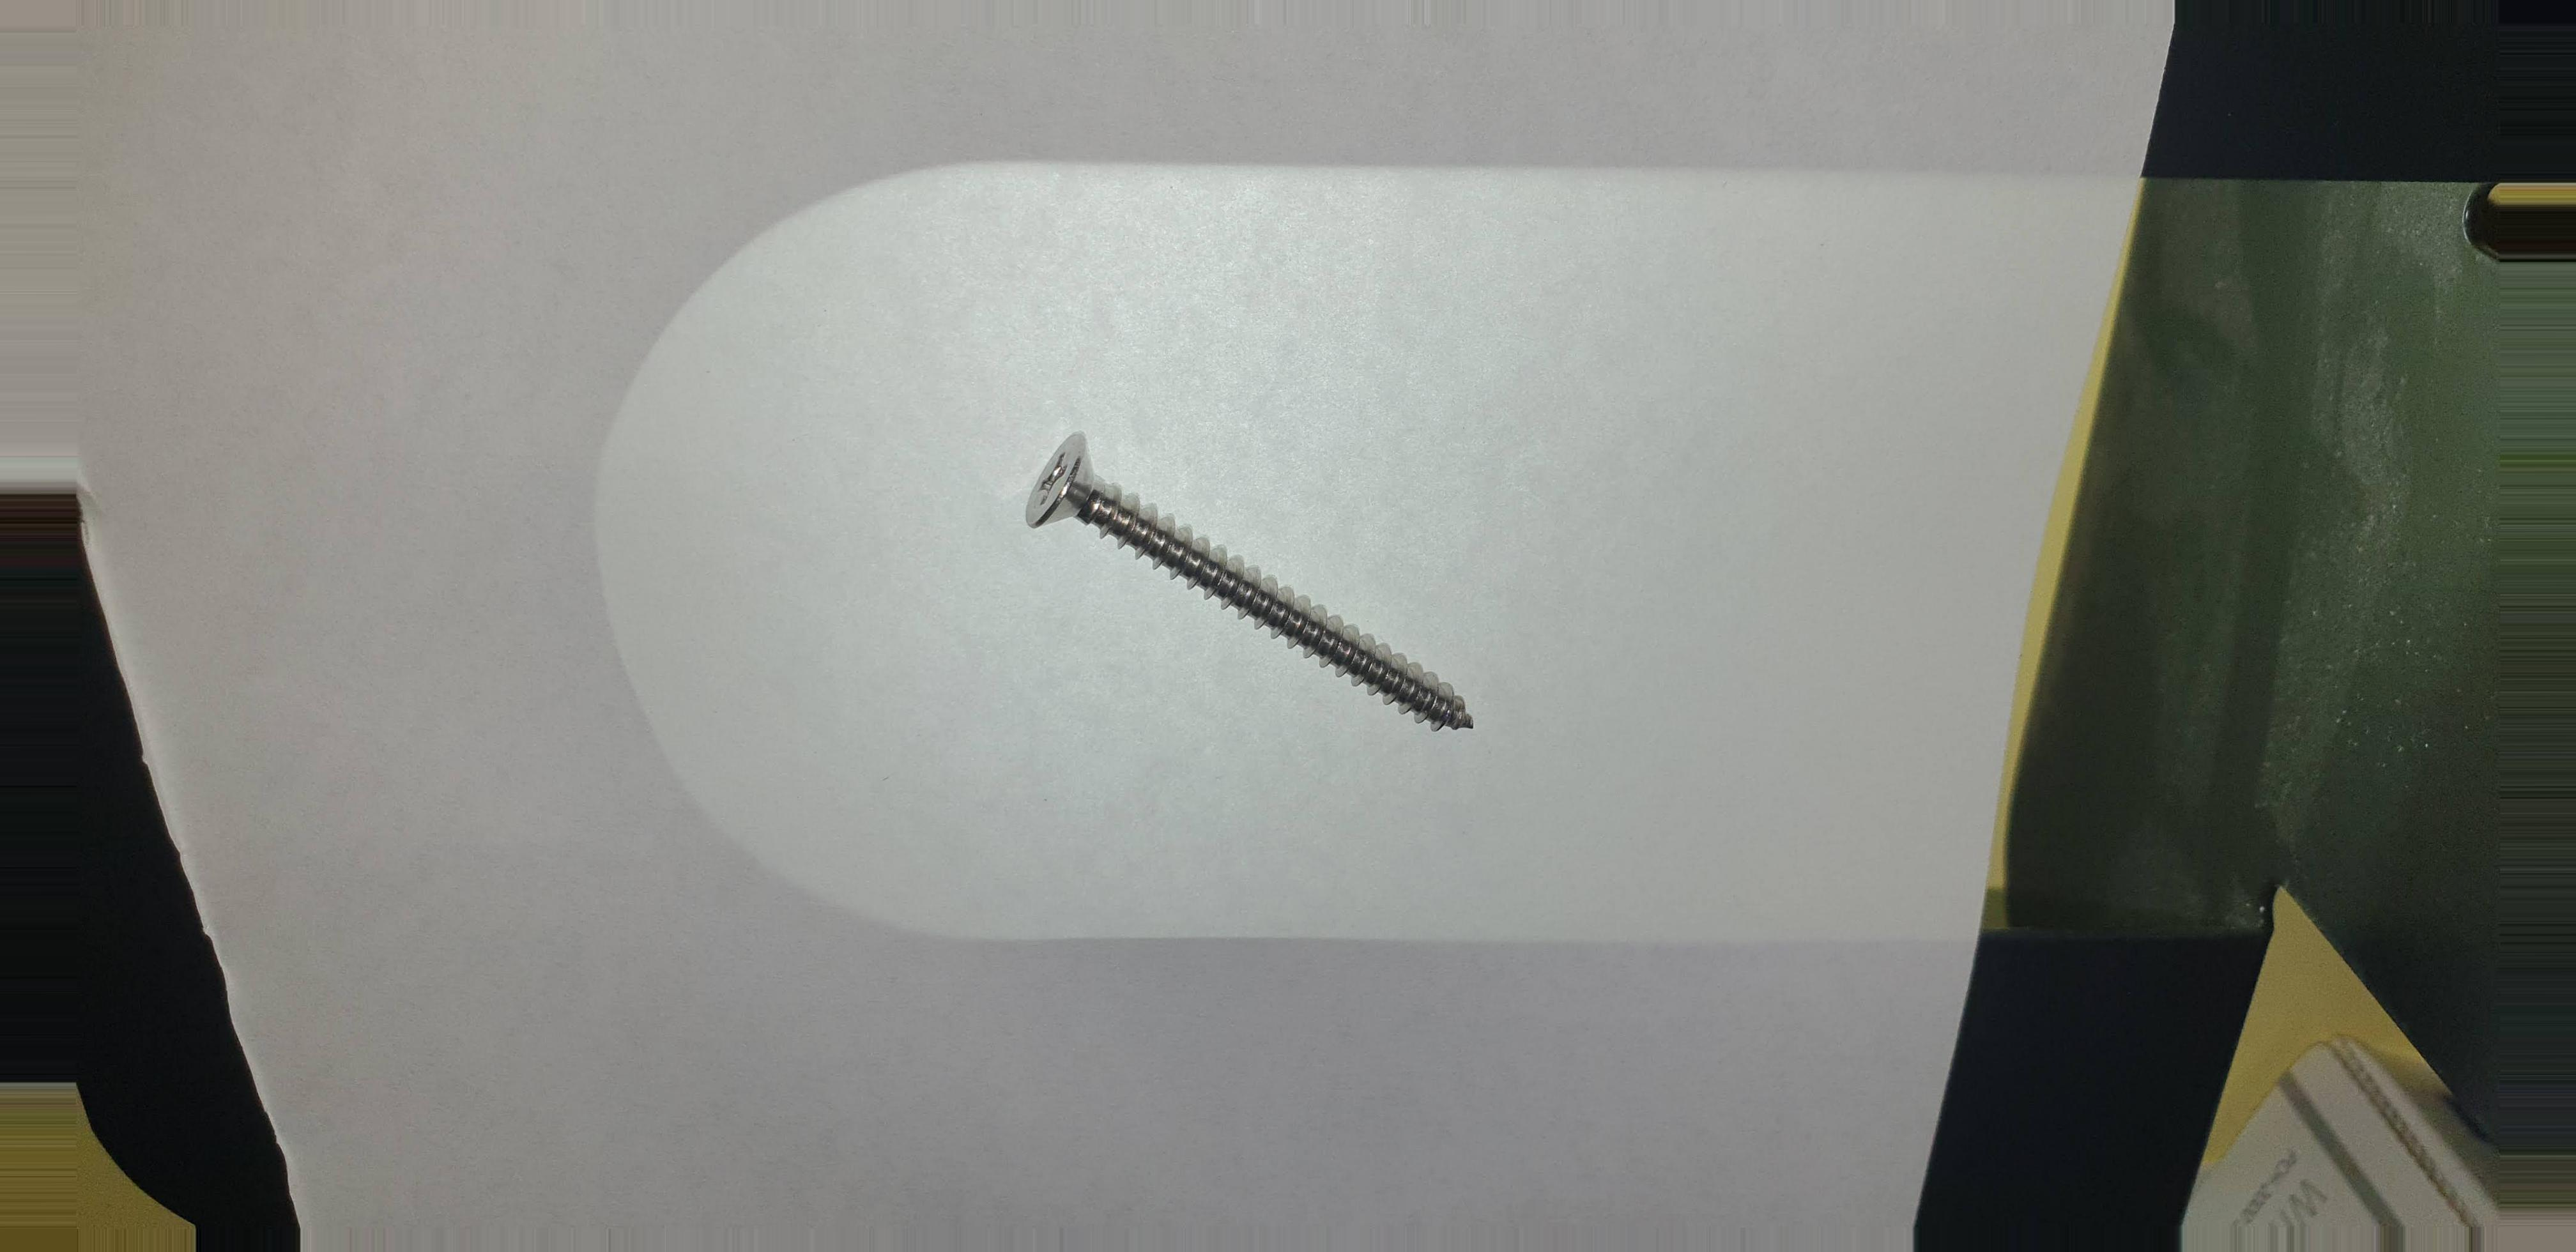fastener: (950, 391, 1561, 820)
